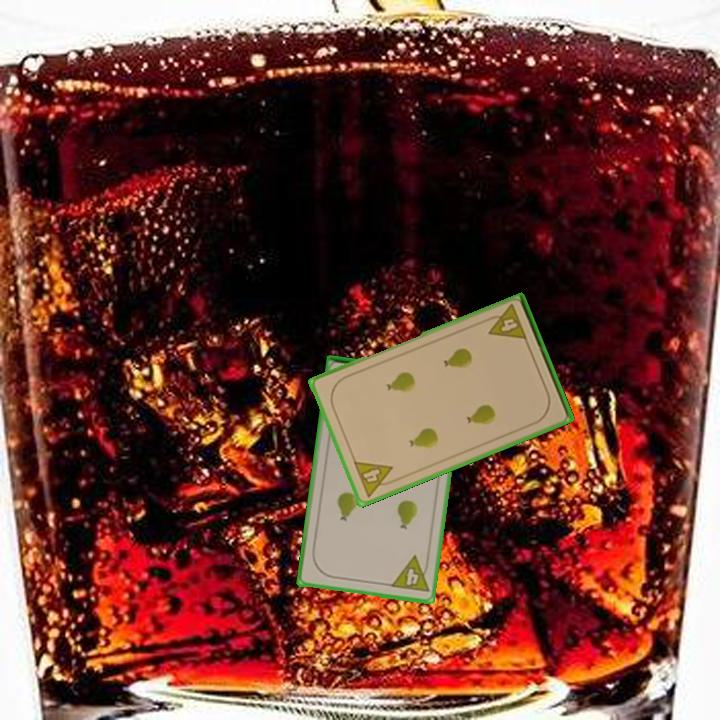4p: (350, 457, 400, 500), (481, 301, 530, 343), (387, 552, 432, 596)
